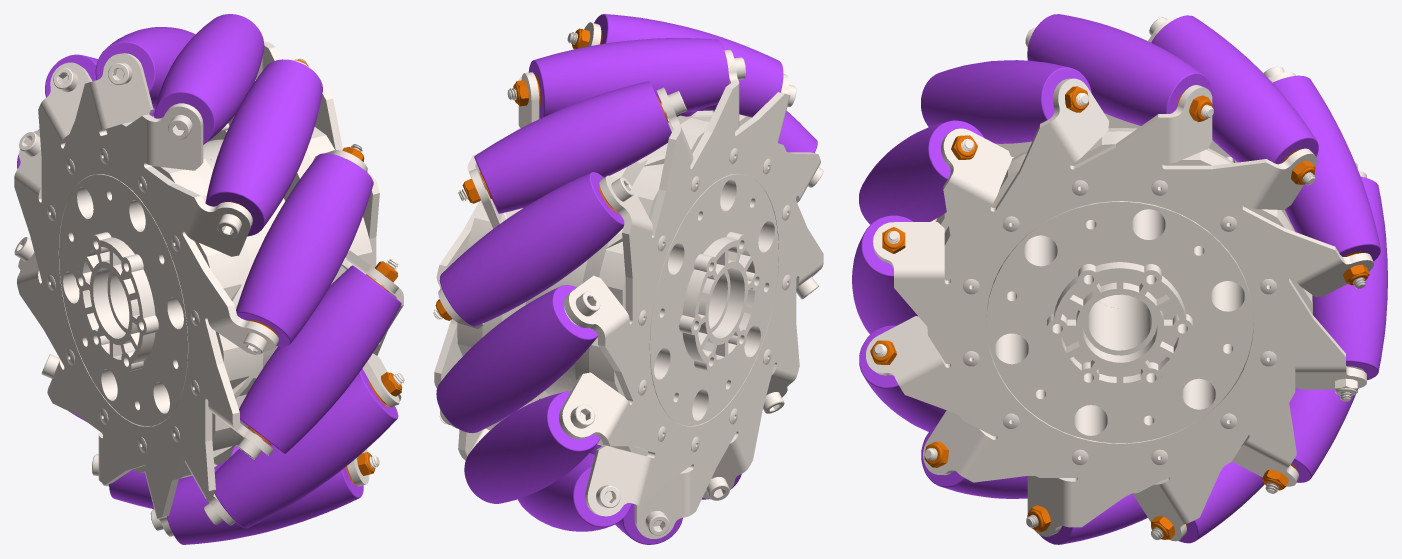
The model's file is 2796N16_Omni-Directional_Wheel-draco.glb.
3 views of the same model, side by side, from view 1: azimuth 30°, elevation 25°; view 2: azimuth 150°, elevation 25°; view 3: azimuth 270°, elevation 25° (orthographic). The views are drawn at different scales.
Visible parts, largest first — view 1: 2796N16_Omni-Directional Wheel; view 2: 2796N16_Omni-Directional Wheel; view 3: 2796N16_Omni-Directional Wheel.
Part boxes in pixels (box(x1,y1,x2,y2)): 2796N16_Omni-Directional Wheel: box(14, 14, 404, 544); 2796N16_Omni-Directional Wheel: box(433, 14, 823, 544); 2796N16_Omni-Directional Wheel: box(852, 14, 1387, 544).
Size of the model in its own units: 0.0889 by 0.2038 by 0.2038.
